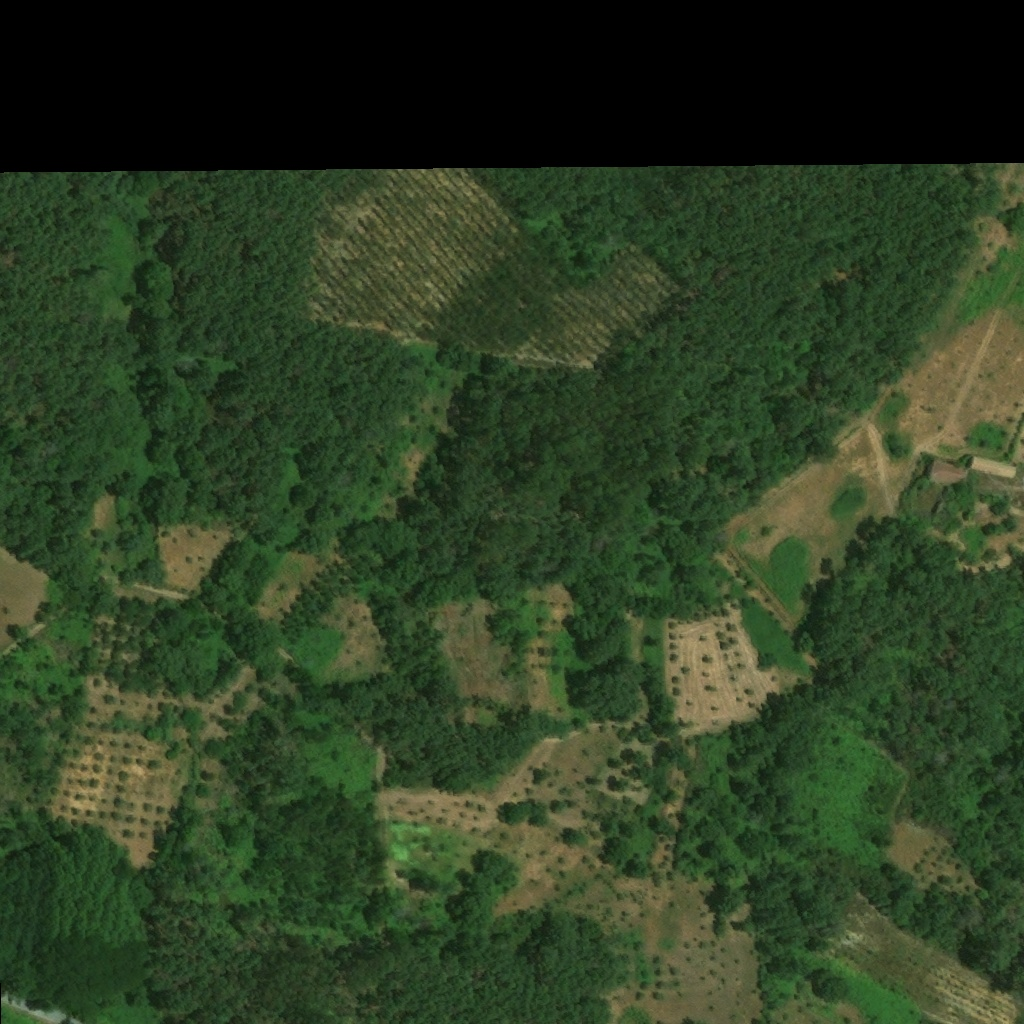0 no-damage: (926, 459, 970, 492), (966, 454, 1017, 481)
4 un-classified: (987, 480, 999, 489)
